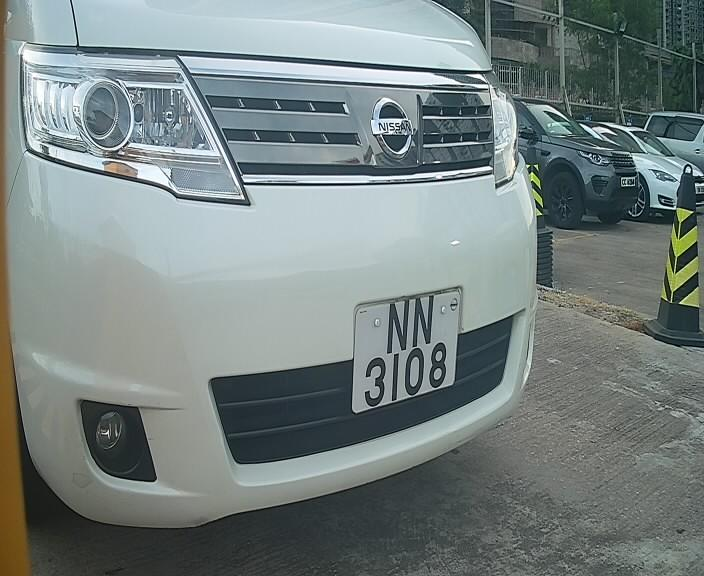License Plate: (349, 273, 466, 420)
